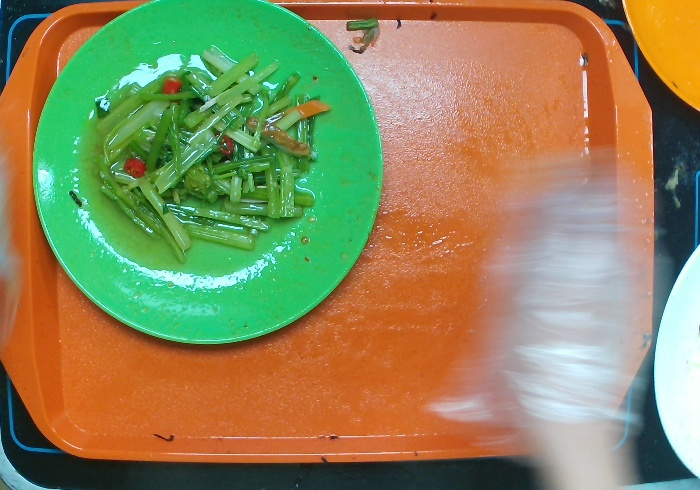HZYJPL-Lv_Se_Yuan_Pan: (20, 1, 395, 379)
